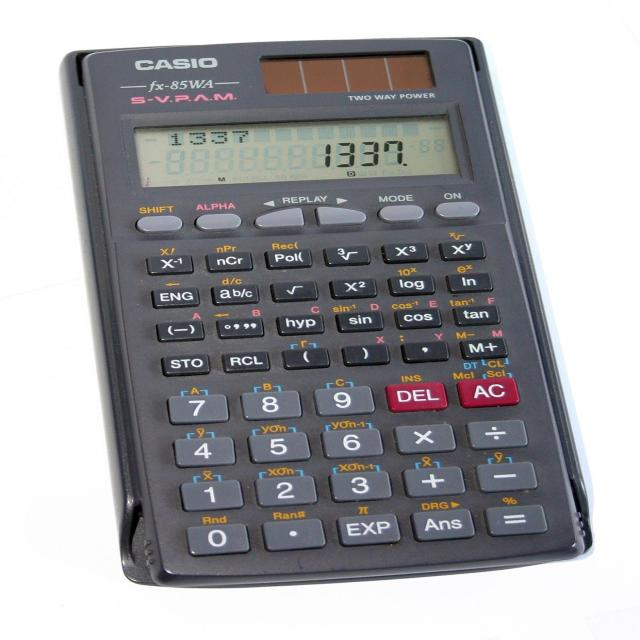Calculator: (10, 0, 640, 622)
